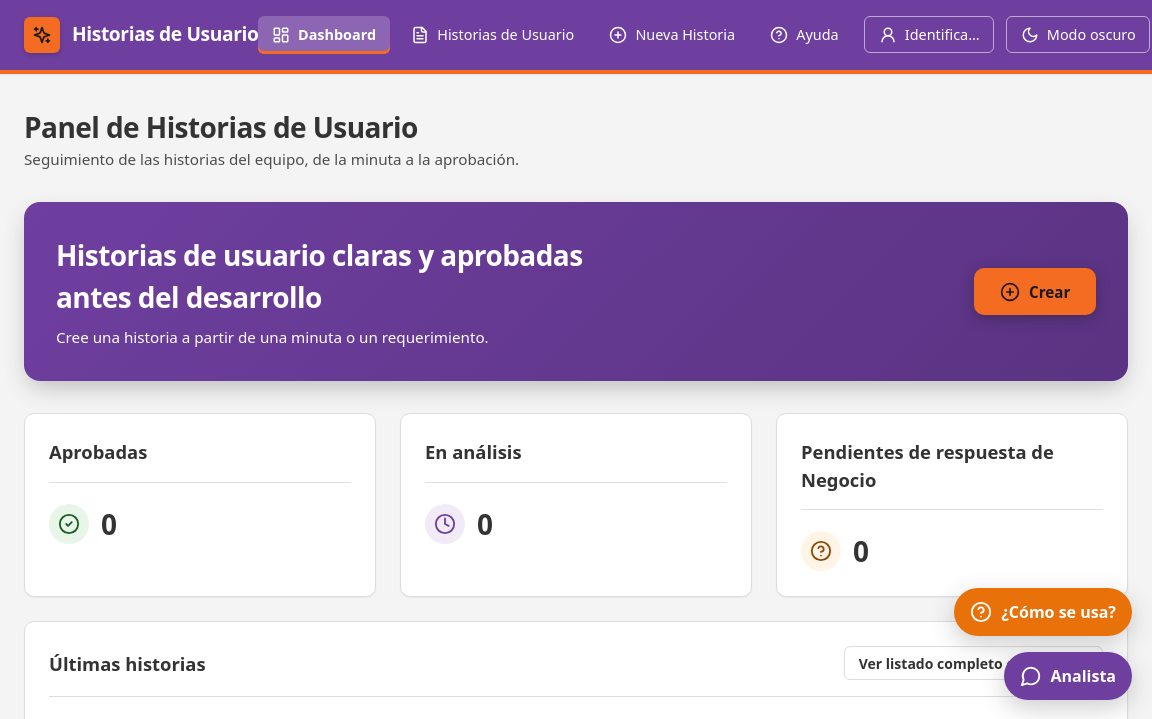
Test case: AnalystChat shell › cancels through FastAPI and aborts the pending browser request
Click the button with aria-label "abrir chat del agente analista".
click(1068, 676)  # box [1004,652,1132,700]
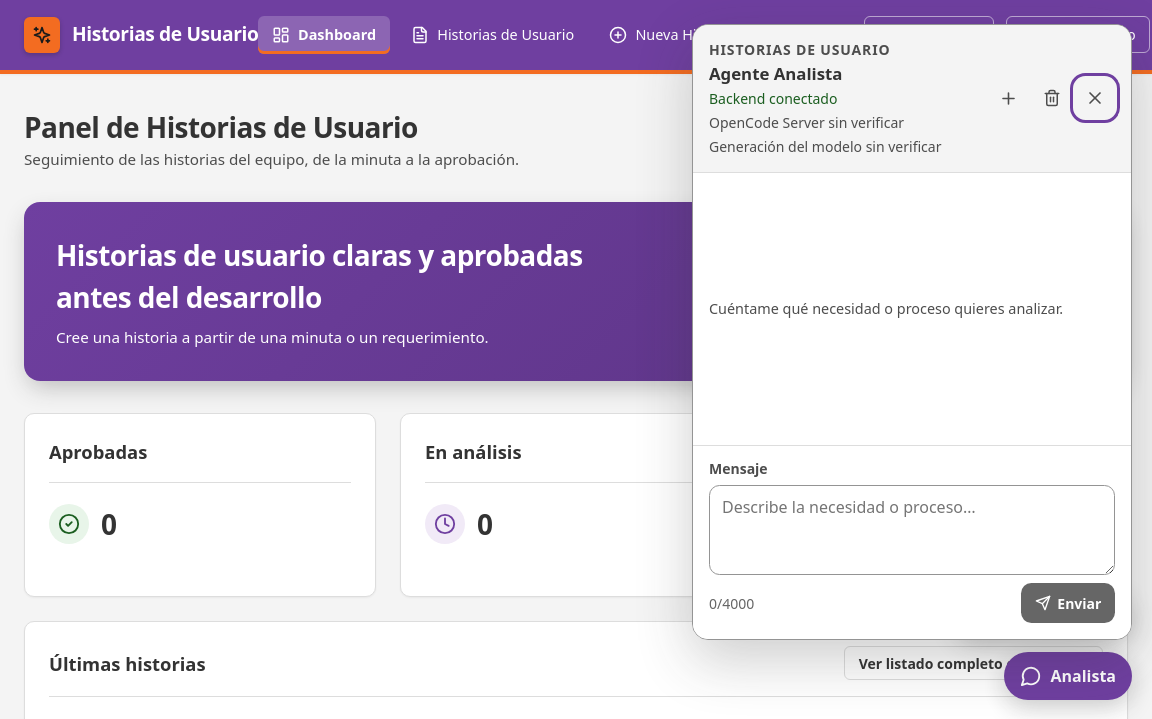
Now the text box named "escribe tu requerimiento" is enabled
Type "Consulta de prueba" into the text box named "escribe tu requerimiento".
click(912, 530); type("Consulta de prueba")  # box [709,485,1115,575]
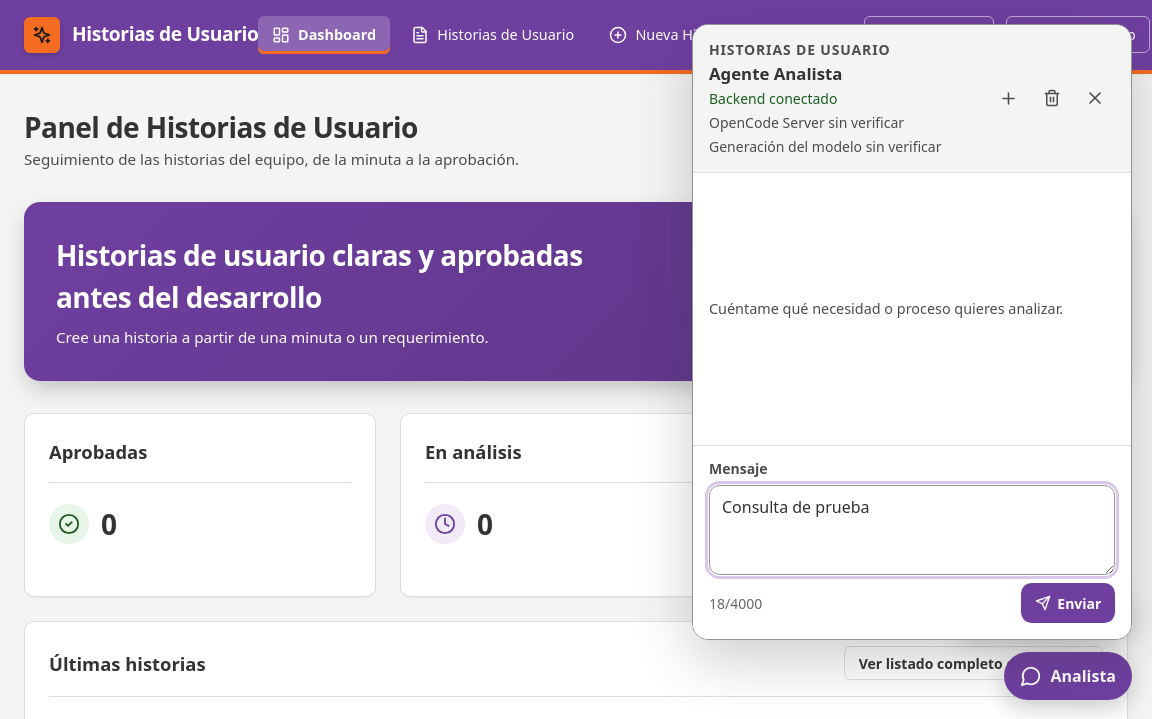
Click the button "Enviar".
click(1068, 603)  # box [1021,583,1115,623]
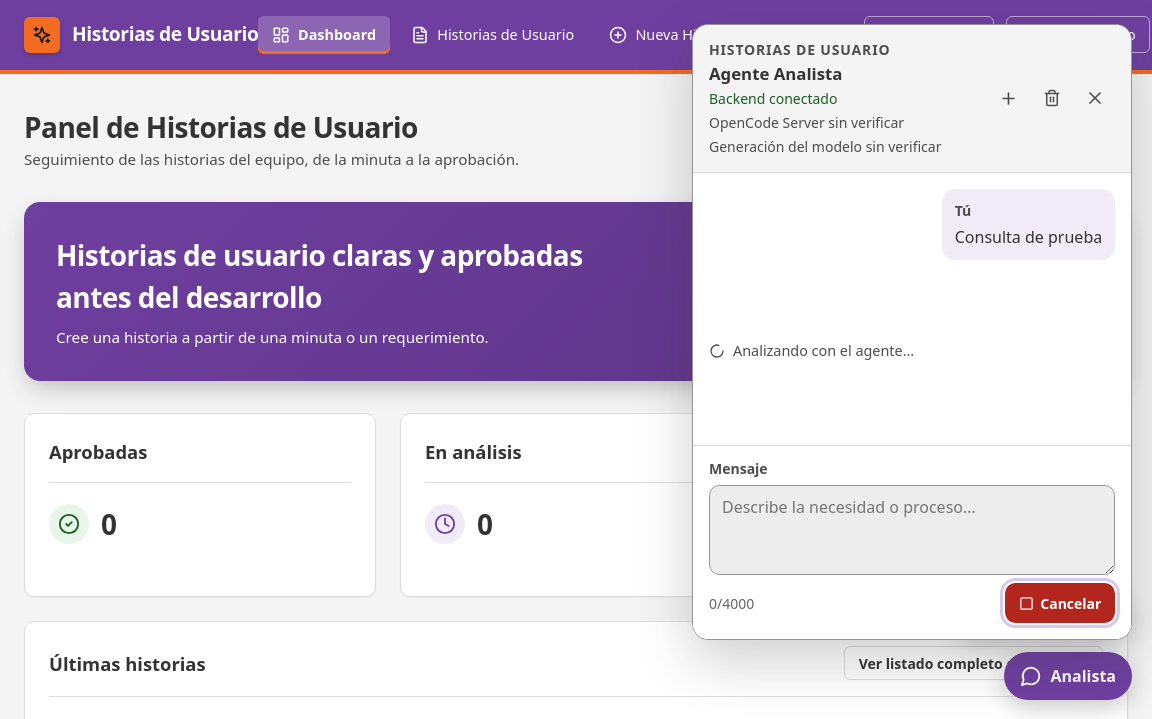
Click the button "Cancelar".
click(1060, 603)  # box [1005,583,1115,623]
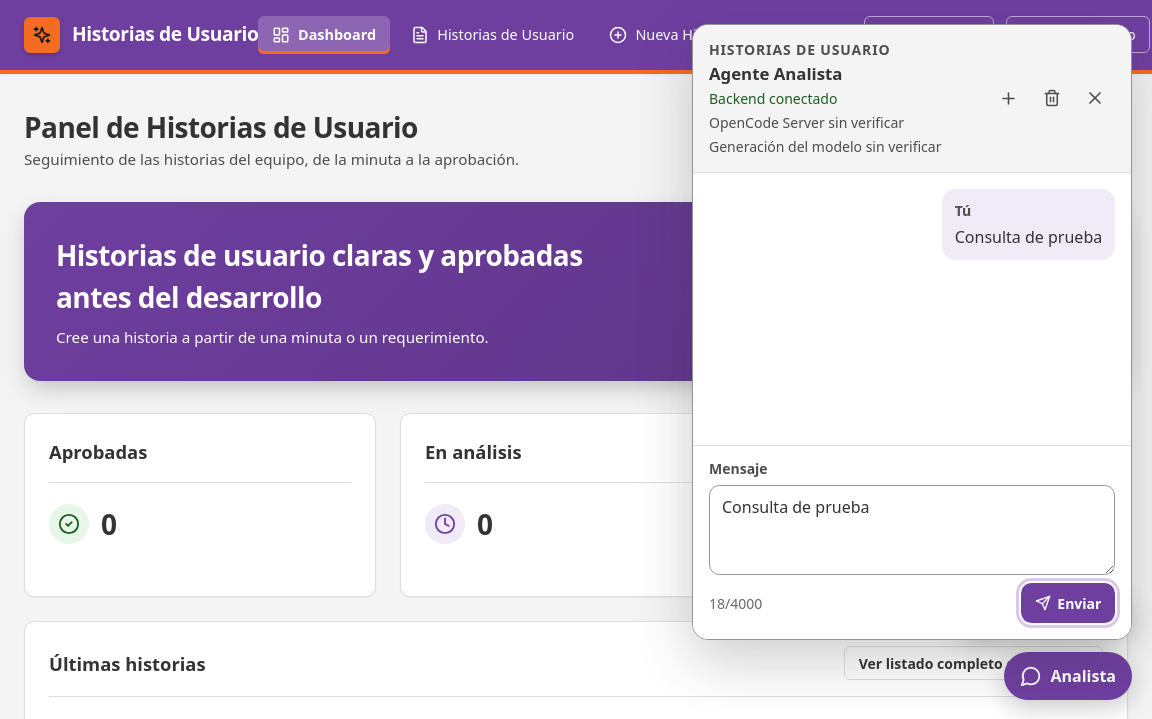
Now the text "Analizando con el agente…" is gone
